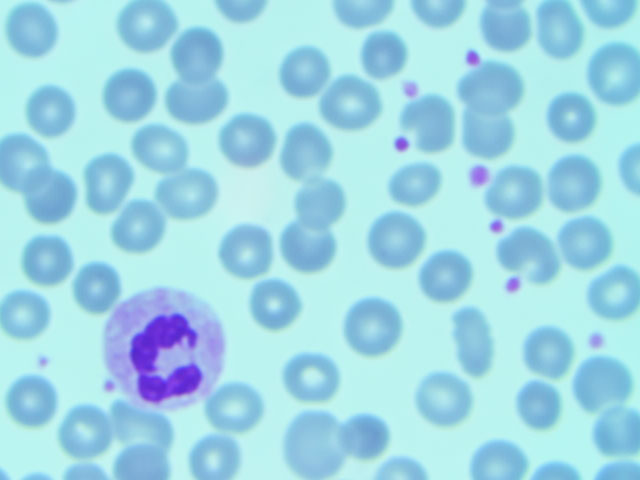Platelets: (465, 158, 493, 189), (389, 127, 415, 157), (499, 271, 529, 297), (584, 326, 611, 354), (398, 70, 424, 98), (485, 213, 511, 237), (460, 46, 483, 70), (32, 352, 55, 374)
RBC: (4, 2, 63, 57), (21, 83, 80, 138), (100, 69, 159, 124), (168, 26, 227, 81), (168, 75, 227, 130), (131, 118, 190, 173), (77, 153, 136, 208), (28, 175, 87, 230), (21, 231, 80, 286), (65, 258, 124, 313), (2, 378, 61, 433), (57, 403, 116, 458), (114, 414, 173, 469), (184, 425, 243, 480), (207, 378, 266, 433), (281, 348, 340, 403), (249, 276, 308, 331), (214, 225, 273, 280), (162, 167, 221, 222), (108, 199, 167, 254), (221, 113, 280, 168), (277, 125, 336, 180), (291, 171, 350, 226), (278, 218, 337, 273), (367, 214, 426, 269), (385, 162, 444, 217), (416, 246, 475, 301), (440, 309, 499, 364), (350, 300, 409, 355), (410, 371, 469, 426), (343, 412, 402, 467), (289, 415, 348, 470), (467, 425, 526, 480), (509, 381, 568, 436), (518, 318, 577, 373), (571, 354, 630, 409), (581, 406, 640, 461), (581, 266, 640, 321), (557, 215, 616, 270), (546, 160, 605, 215), (543, 93, 602, 148), (459, 62, 518, 117), (459, 109, 518, 164), (406, 96, 465, 151), (322, 75, 381, 130), (271, 44, 330, 99), (352, 25, 411, 80), (478, 3, 537, 58), (529, 2, 588, 57), (581, 45, 640, 100), (1, 135, 59, 190), (1, 288, 59, 343), (117, 1, 176, 55)
WBC: (99, 286, 225, 409)
